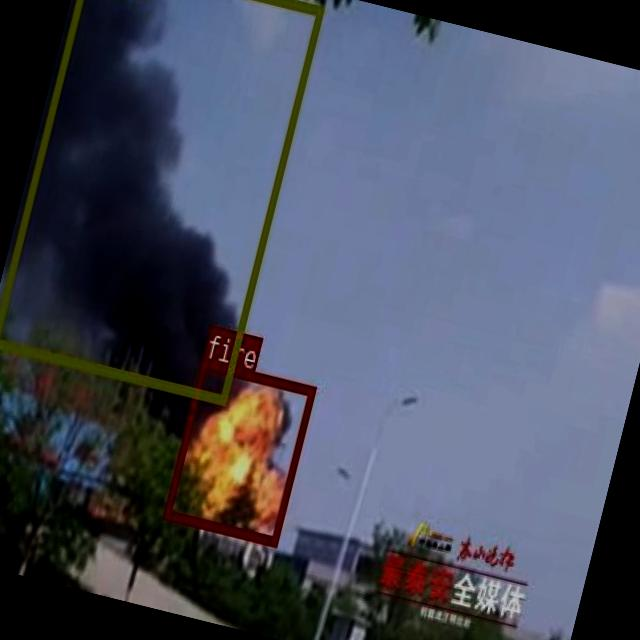fire: (162, 357, 316, 544)
smoke: (0, 0, 323, 401)
